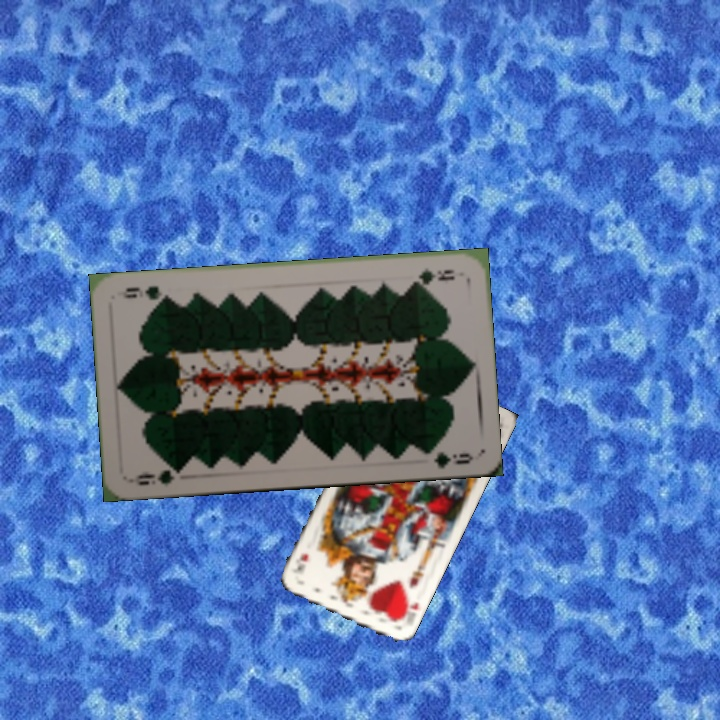G9: (127, 462, 186, 488), (405, 264, 458, 287)
HK: (395, 593, 422, 623)
